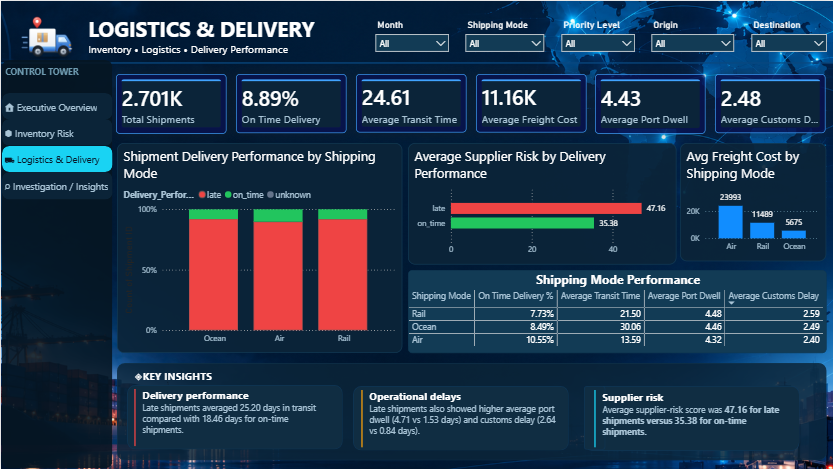

Layout of this report page (visuals, bound fields, positions):
{"tool":"powerbi","page":{"name":"Shipment Analysis","canvas":[1280,720],"ordinal":2},"visuals":[{"type":"hundredPercentStackedColumnChart","title":"Shipment Delivery Performance by Shipping Mode","fields":{"Series":["fact_shipments.Delivery_Performance"],"Category":["fact_shipments.Shipping_Mode"],"Y":["Sum(fact_shipments.Quantity)"]},"box":[178.9,218.9,438.9,323.3],"z":0},{"type":"clusteredColumnChart","title":"Avg Freight Cost by Shipping Mode","fields":{"Category":["fact_shipments.Shipping_Mode"],"Y":["Avg(fact_shipments.Freight_Cost_USD)"]},"box":[1045,218.3,225,181.7],"z":1000},{"type":"cardVisual","fields":{"Data":["fact_shipments.Total Shipments"]},"box":[177.5,111.7,170,91.7],"z":2000},{"type":"cardVisual","fields":{"Data":["fact_shipments.On Time Delivery %"]},"box":[361.7,111.7,170,91.1],"z":3000},{"type":"cardVisual","fields":{"Data":["fact_shipments.Average Transit Time"]},"box":[546,111.7,170,90],"z":4000},{"type":"cardVisual","fields":{"Data":["fact_shipments.Average Freight Cost"]},"box":[730.2,111.7,170,90],"z":5000},{"type":"cardVisual","fields":{"Data":["fact_shipments.Average Port Dwell"]},"box":[914.4,111.7,170,92.2],"z":6000},{"type":"cardVisual","fields":{"Data":["fact_shipments.Average Customs Delay"]},"box":[1098.7,111.7,170,91],"z":7000},{"type":"textbox","box":[128.9,15.6,423.3,95.6],"z":8000},{"type":"slicer","fields":{"Values":["dim_location_origin.Region"]},"box":[991,22.9,147.1,70],"z":9000},{"type":"slicer","fields":{"Values":["dim_location_destination.Region"]},"box":[1144.3,22.9,135.7,70],"z":10000},{"type":"shape","box":[0,73,1280,46],"z":11000},{"type":"image","box":[10,15.7,125.7,88.6],"z":12000},{"type":"slicer","fields":{"Values":["dim_date.Month"]},"box":[565.7,22.9,132.9,70],"z":13000},{"type":"slicer","fields":{"Values":["fact_shipments.Shipping_Mode"]},"box":[704.7,23.3,141.1,70],"z":14000},{"type":"slicer","fields":{"Values":["fact_shipments.Priority_Level"]},"box":[852,22.9,132.9,70],"z":15000},{"type":"clusteredBarChart","title":"Average Supplier Risk by Delivery Performance","fields":{"Category":["fact_shipments.Delivery_Performance"],"Y":["Avg(fact_shipments.Supplier_Risk_Score)"]},"box":[625.6,218.9,413.3,186.7],"z":16000},{"type":"pivotTable","title":"Shipping Mode Performance","fields":{"Rows":["fact_shipments.Shipping_Mode"],"Values":["fact_shipments.On Time Delivery %","fact_shipments.Average Transit Time","fact_shipments.Average Port Dwell","fact_shipments.Average Customs Delay"]},"box":[625.6,414.4,644.4,127.8],"z":17000},{"type":"shape","box":[178.3,556.7,1091.7,150],"z":18000},{"type":"textbox","box":[200,562.2,140,34.4],"z":19000},{"type":"shape","box":[193.3,590.8,332,99.2],"z":20000},{"type":"shape","box":[199.4,596.7,12.2,87.8],"z":21000},{"type":"shape","box":[541.1,592.1,332,99.3],"z":22000},{"type":"shape","box":[548.9,597.8,12.2,88.3],"z":23000},{"type":"textbox","box":[212.2,591.1,298.9,93.3],"z":24000},{"type":"textbox","box":[561.1,592.1,299,99],"z":25000},{"type":"shape","box":[1.4,91.4,170,628.2],"z":26000},{"type":"actionButton","box":[1.4,141.4,170,41],"z":27000},{"type":"actionButton","box":[1.4,182.1,170,41.2],"z":28000},{"type":"actionButton","box":[1.4,223.4,170,40],"z":29000},{"type":"actionButton","box":[1.4,263.4,170,42.5],"z":30000},{"type":"textbox","box":[1.4,96,168.2,45.5],"z":31000},{"type":"shape","box":[896.7,591.7,331.7,100],"z":32000},{"type":"shape","box":[897.7,592.7,33,98],"z":33000},{"type":"shape","box":[907.8,598.3,12.2,88.3],"z":34000},{"type":"textbox","box":[920,593.3,291.7,93.3],"z":35000}]}

Visuals, with their boxes on the page's 1280x720 design canvas (x1, y1, x2, y2). These are canvas units, not pixel positions in the 833x469 screenshot, which may show the page scaled, cropped or inside an application window:
"Shipment Delivery Performance by Shipping Mode" hundredPercentStackedColumnChart: box(179, 219, 618, 542)
"Avg Freight Cost by Shipping Mode" clusteredColumnChart: box(1045, 218, 1270, 400)
cardVisual - fact_shipments.Total Shipments: box(178, 112, 348, 203)
cardVisual - fact_shipments.On Time Delivery %: box(362, 112, 532, 203)
cardVisual - fact_shipments.Average Transit Time: box(546, 112, 716, 202)
cardVisual - fact_shipments.Average Freight Cost: box(730, 112, 900, 202)
cardVisual - fact_shipments.Average Port Dwell: box(914, 112, 1084, 204)
cardVisual - fact_shipments.Average Customs Delay: box(1099, 112, 1269, 203)
textbox: box(129, 16, 552, 111)
slicer - dim_location_origin.Region: box(991, 23, 1138, 93)
slicer - dim_location_destination.Region: box(1144, 23, 1280, 93)
shape: box(0, 73, 1280, 119)
image: box(10, 16, 136, 104)
slicer - dim_date.Month: box(566, 23, 699, 93)
slicer - fact_shipments.Shipping_Mode: box(705, 23, 846, 93)
slicer - fact_shipments.Priority_Level: box(852, 23, 985, 93)
"Average Supplier Risk by Delivery Performance" clusteredBarChart: box(626, 219, 1039, 406)
"Shipping Mode Performance" pivotTable: box(626, 414, 1270, 542)
shape: box(178, 557, 1270, 707)
textbox: box(200, 562, 340, 597)
shape: box(193, 591, 525, 690)
shape: box(199, 597, 212, 684)
shape: box(541, 592, 873, 691)
shape: box(549, 598, 561, 686)
textbox: box(212, 591, 511, 684)
textbox: box(561, 592, 860, 691)
shape: box(1, 91, 171, 720)
actionButton: box(1, 141, 171, 182)
actionButton: box(1, 182, 171, 223)
actionButton: box(1, 223, 171, 263)
actionButton: box(1, 263, 171, 306)
textbox: box(1, 96, 170, 142)
shape: box(897, 592, 1228, 692)
shape: box(898, 593, 931, 691)
shape: box(908, 598, 920, 687)
textbox: box(920, 593, 1212, 687)
